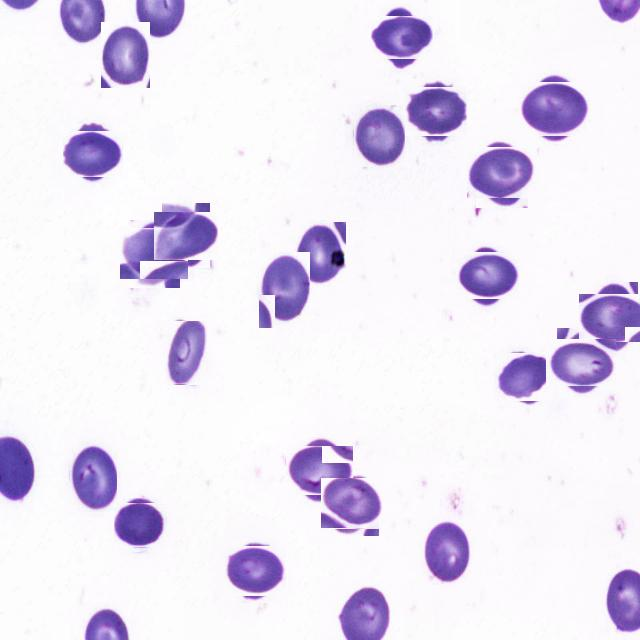red blood cell: (522, 77, 586, 141), (258, 252, 310, 329), (472, 142, 532, 204), (124, 224, 184, 284), (583, 288, 640, 349), (420, 520, 472, 586), (552, 333, 610, 392), (290, 441, 348, 499), (324, 475, 382, 533), (225, 542, 282, 600), (294, 222, 346, 285), (353, 105, 405, 168), (101, 22, 150, 88), (70, 445, 118, 512), (458, 247, 515, 303), (158, 208, 214, 264), (408, 83, 463, 139), (496, 349, 550, 404), (66, 126, 120, 180), (376, 12, 428, 64), (165, 321, 207, 385), (116, 500, 164, 550)
